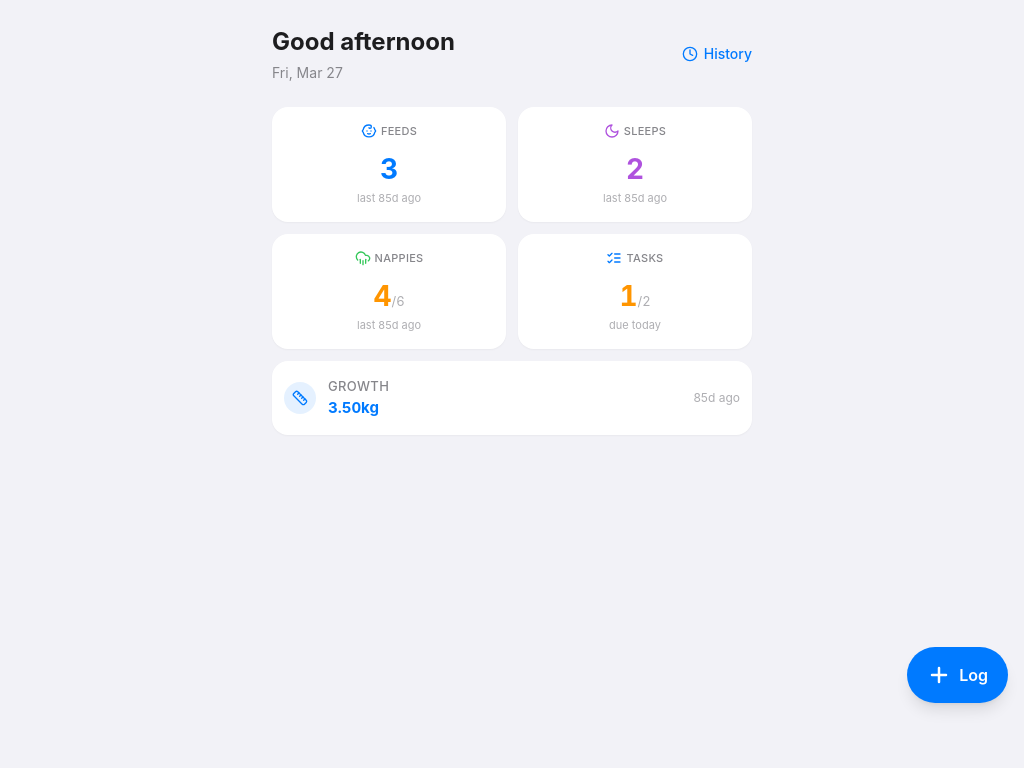
Scenario: Dashboard › shows error toast when quick-add nappy fails
This screenshot has width=1024, height=768.
Click the button "Log" at (958, 675), box [907, 647, 1008, 703]
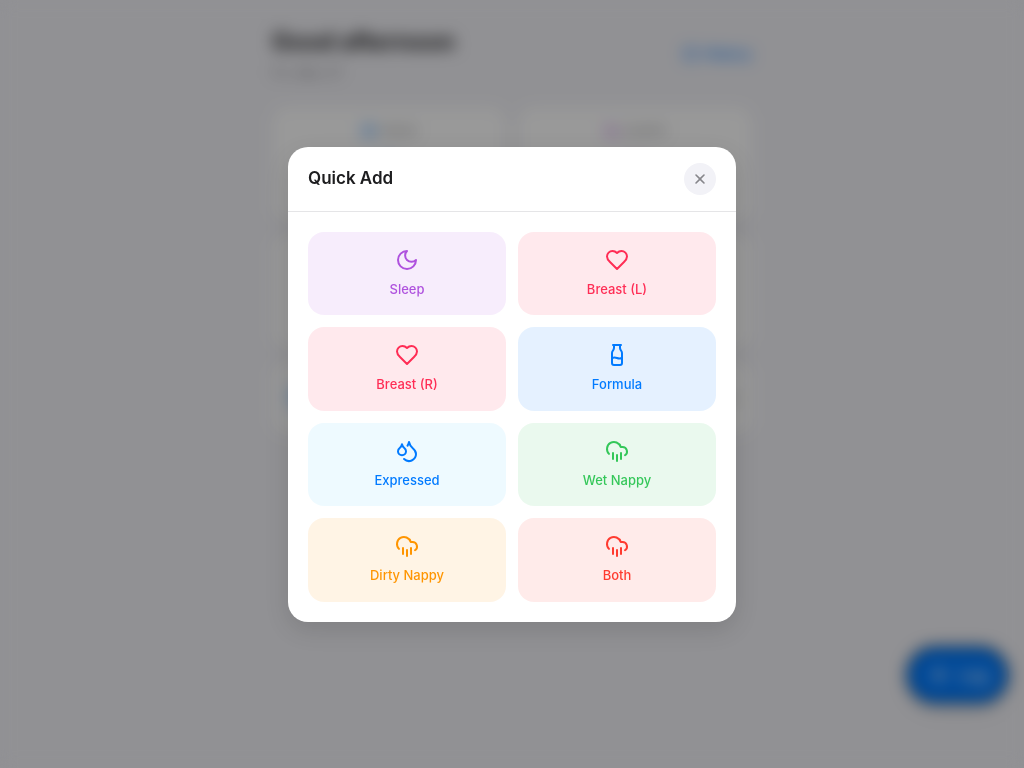
Click the button "Wet Nappy" at (617, 464), box [518, 422, 716, 506]
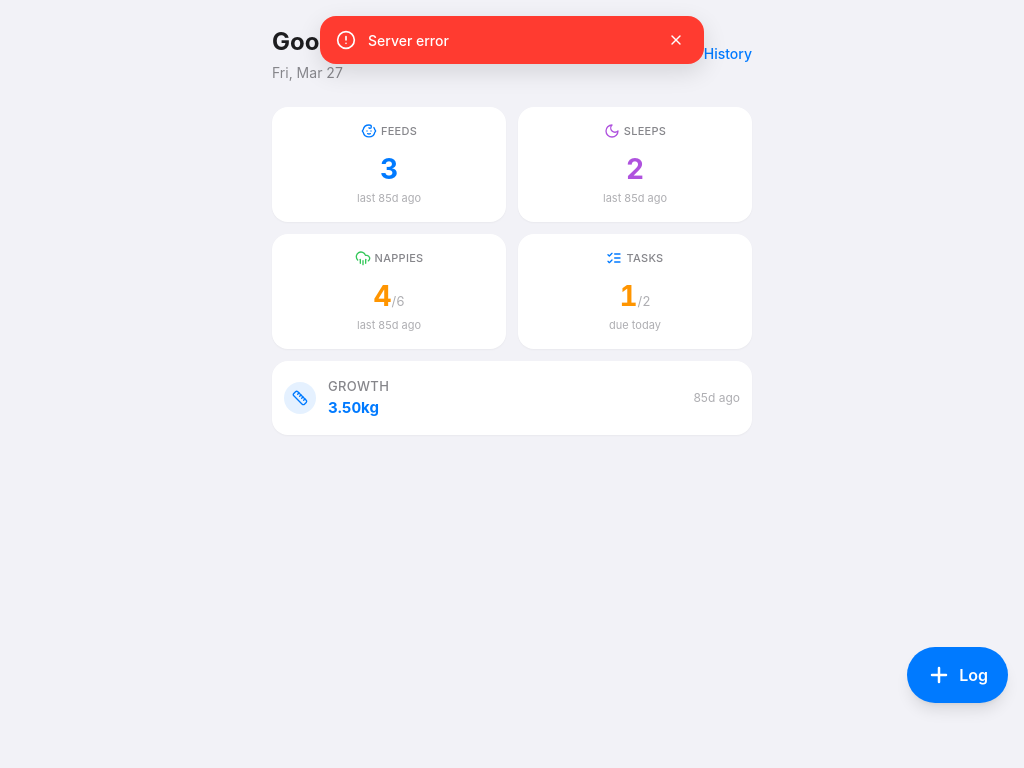
Check: the text "Server error" is shown, box [368, 32, 449, 48]
